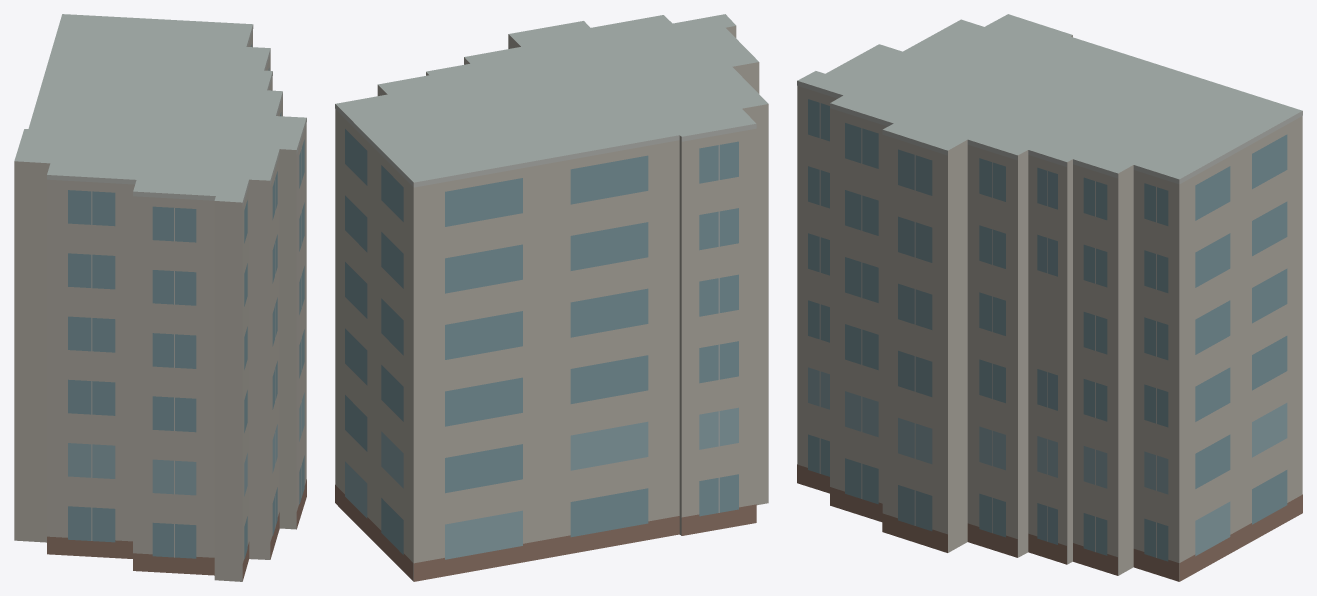
The model's file is survey-upis-32988883.glb.
The picture shows the model from 3 angles, left to right: view 1: azimuth 30°, elevation 25°; view 2: azimuth 150°, elevation 25°; view 3: azimuth 270°, elevation 25°; orthographic projection. The views are drawn at different scales.
Parts seen in each view (by area): view 1: survey-upis-32988883.tmp; view 2: survey-upis-32988883.tmp; view 3: survey-upis-32988883.tmp.
Part boxes in pixels (x1,y1,x2,y2): survey-upis-32988883.tmp: (14, 14, 306, 581); survey-upis-32988883.tmp: (335, 14, 768, 581); survey-upis-32988883.tmp: (797, 14, 1302, 581).
Size of the model in its own units: 17.2 by 19.5 by 22.21.
